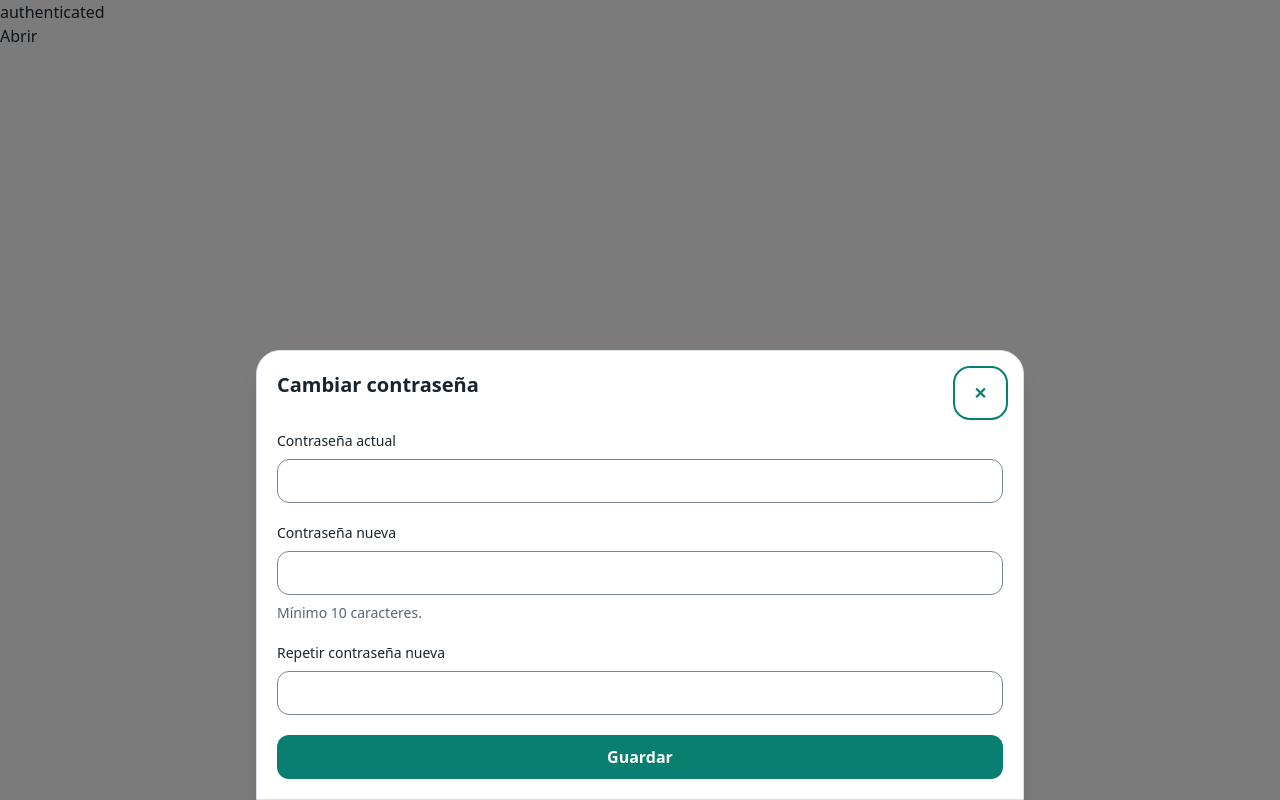
Test: 401 invalid_credentials marca la contraseña actual y mantiene la sesión
Expected: the text "authenticated" is shown, [0, 1, 105, 23]
Type "actual-segura" into the password field labelled "Contraseña actual".
click(640, 481); type("actual-segura")  # box [277, 459, 1003, 503]
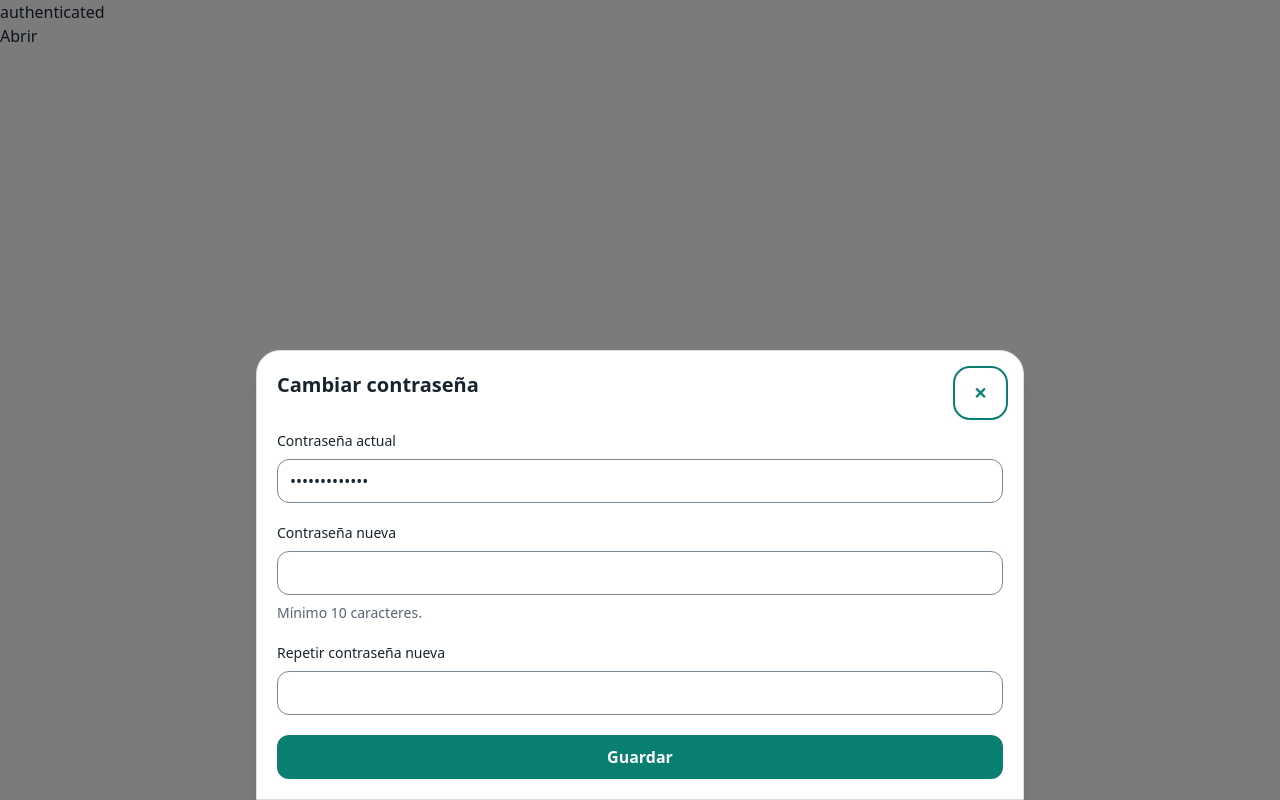
Type "nueva-segura" into the password field labelled "Contraseña nueva".
click(640, 573); type("nueva-segura")  # box [277, 551, 1003, 595]
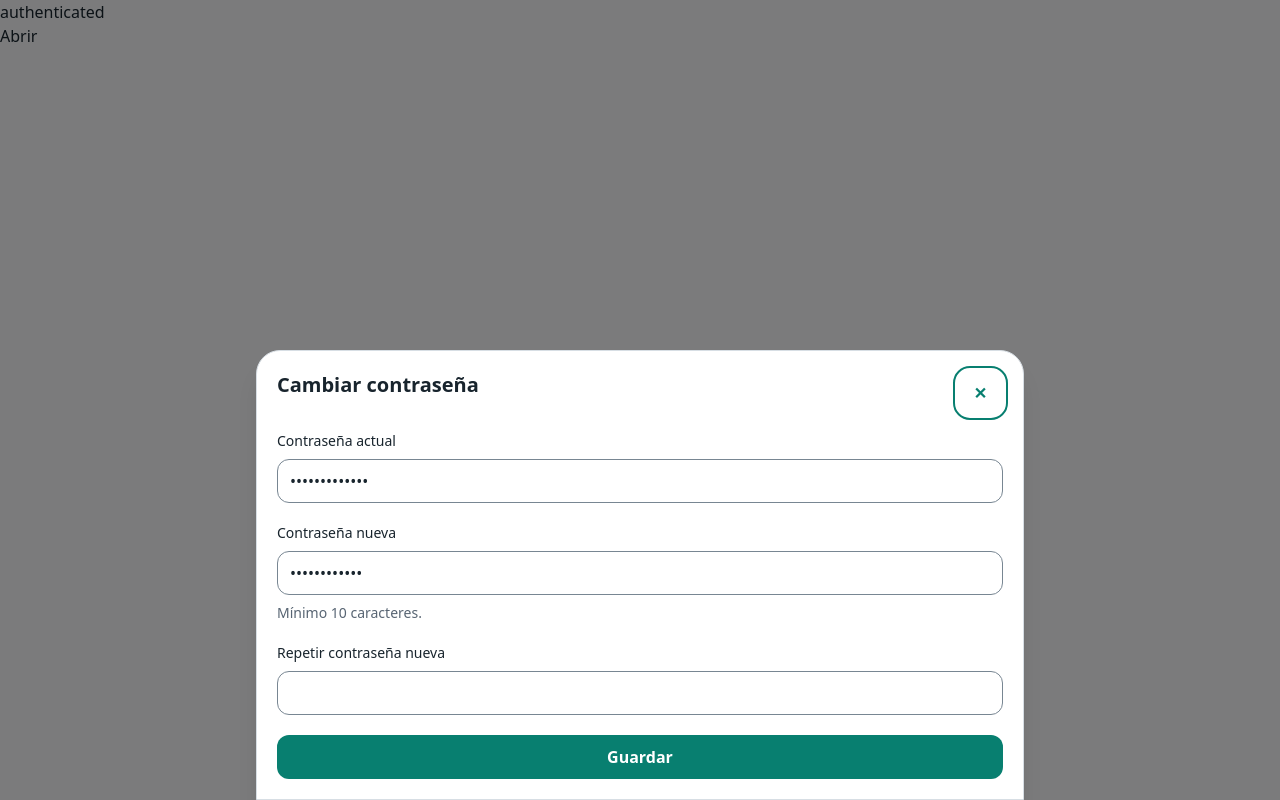
Type "nueva-segura" into the password field labelled "Repetir contraseña nueva".
click(640, 693); type("nueva-segura")  # box [277, 671, 1003, 715]
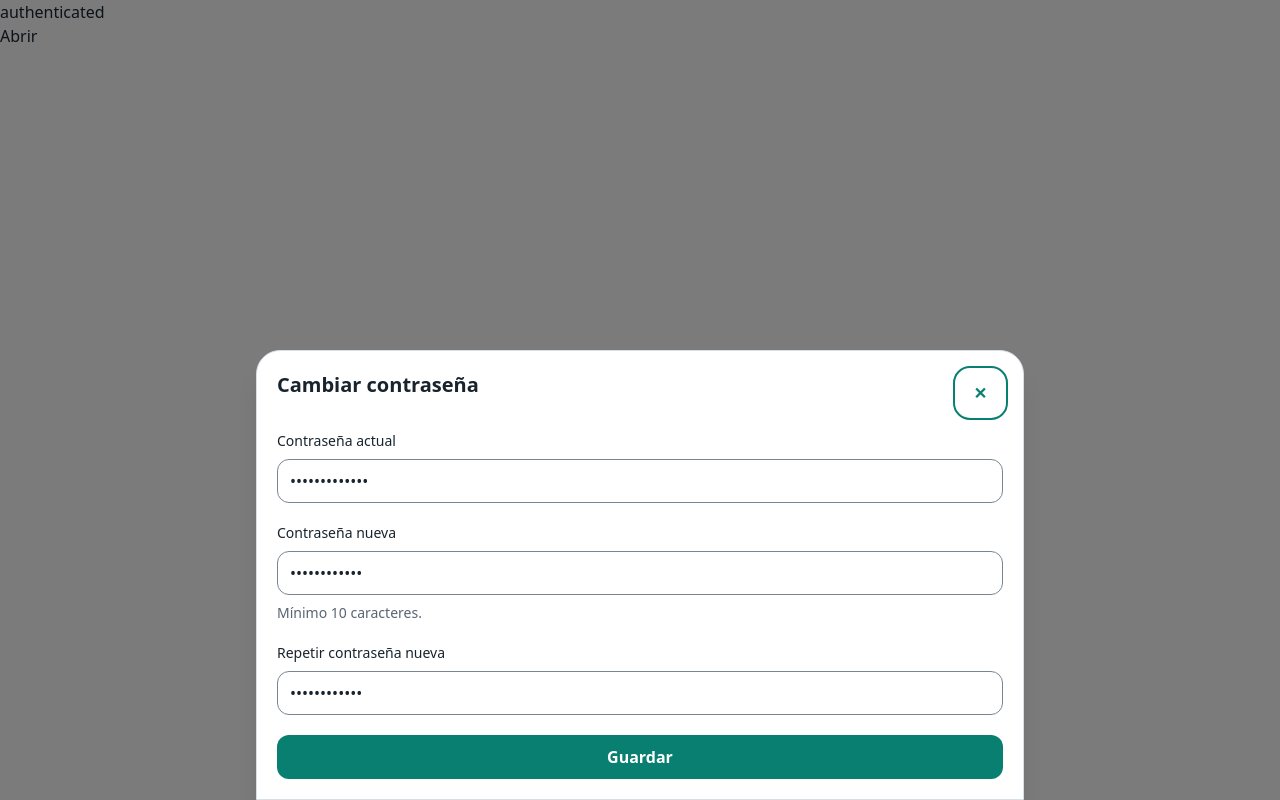
Click the button "Guardar".
click(640, 757)  # box [277, 735, 1003, 779]
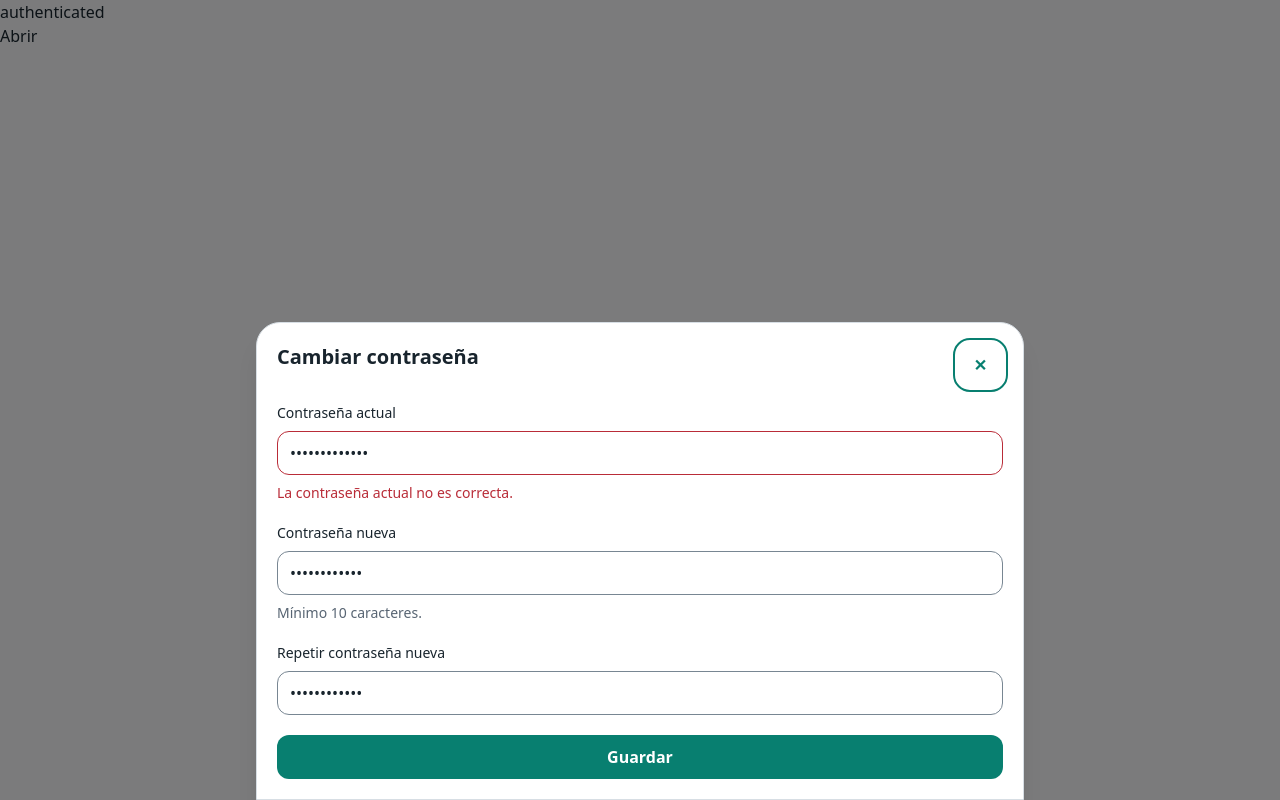
Expected: the text "authenticated" is shown, [0, 1, 105, 23]
Expected: the text "La contraseña actual no es correcta." is shown, [277, 483, 513, 502]
